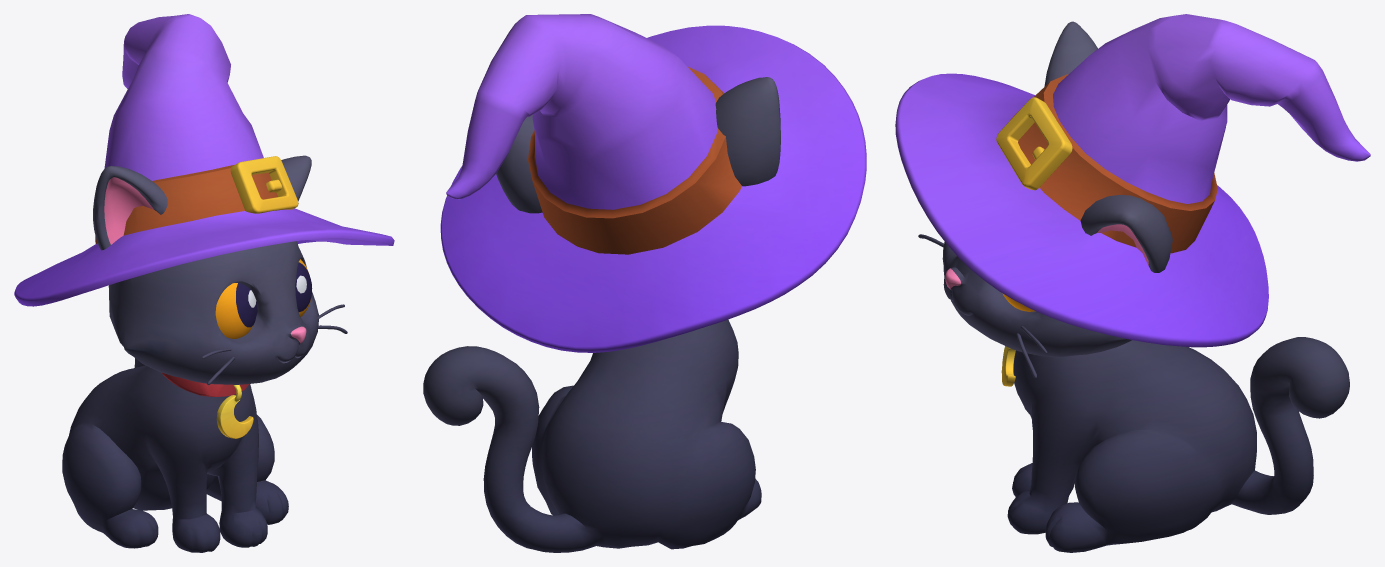
The model's file is cat.glb.
3 views of the same model, side by side, from view 1: azimuth 30°, elevation 25°; view 2: azimuth 150°, elevation 25°; view 3: azimuth 270°, elevation 25° (orthographic). The views are drawn at different scales.
Visible parts, largest first — view 1: WBA_Character_WitchCat_01; view 2: WBA_Character_WitchCat_01; view 3: WBA_Character_WitchCat_01.
Part boxes in pixels (<box>): WBA_Character_WitchCat_01: <box>14,14,394,552</box>; WBA_Character_WitchCat_01: <box>423,14,866,552</box>; WBA_Character_WitchCat_01: <box>895,14,1370,552</box>.
Size of the model in its own units: 0.7983 by 1.04 by 0.8643.
1 material, 1 textured.
